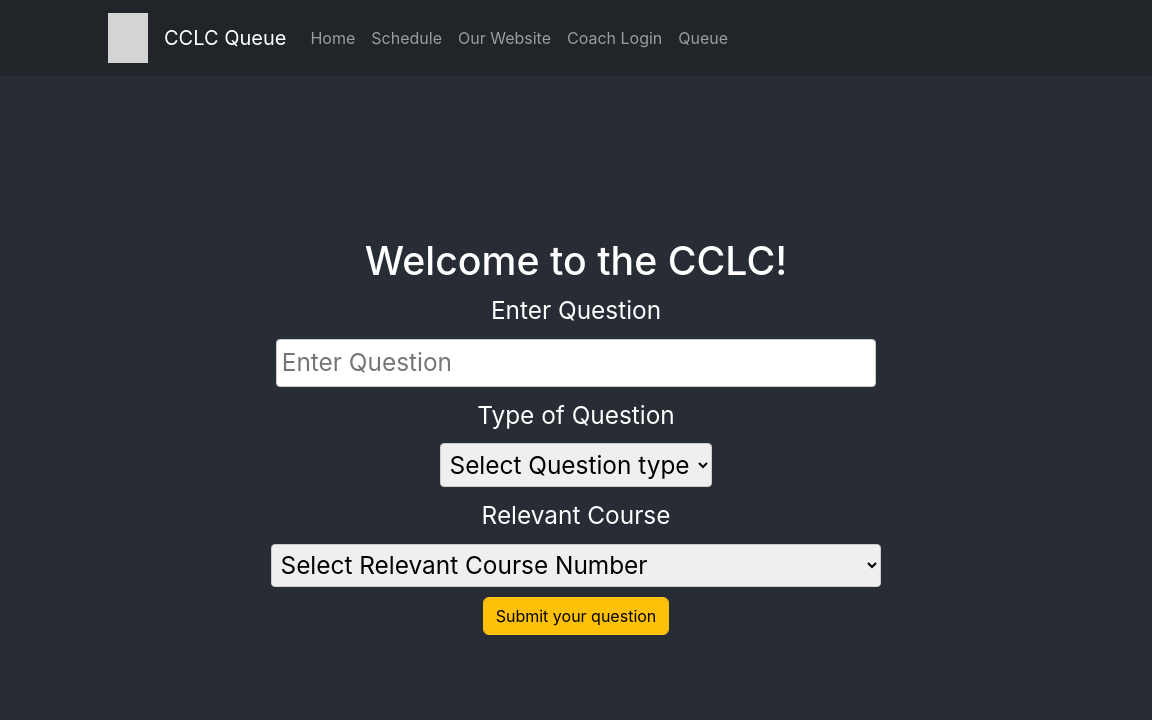
Test: coach login page › displays correctly
The width and height of the screenshot is (1152, 720).
Click the link with id "login" at (615, 38), box x1=567 y1=28 x2=662 y2=48
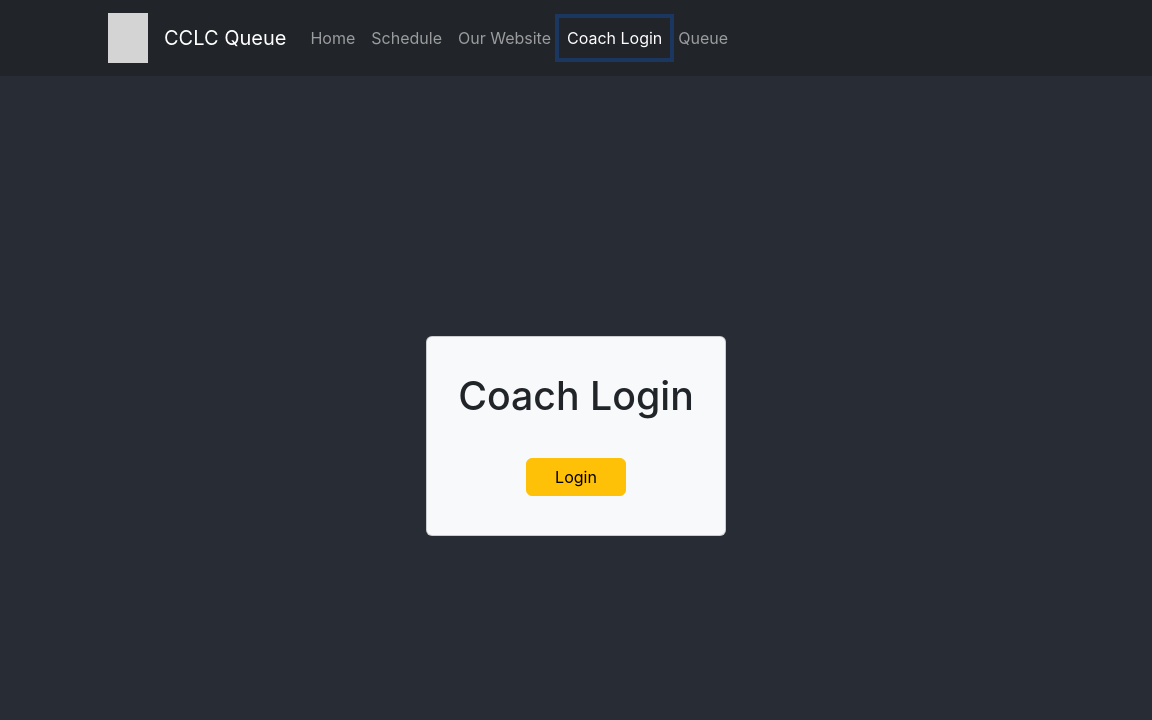
Check: the form is shown, box x1=426 y1=336 x2=726 y2=536
Check: the heading "Coach Login" is shown, box x1=454 y1=368 x2=698 y2=423
Check: the button "Login" is shown, box x1=526 y1=458 x2=626 y2=496
